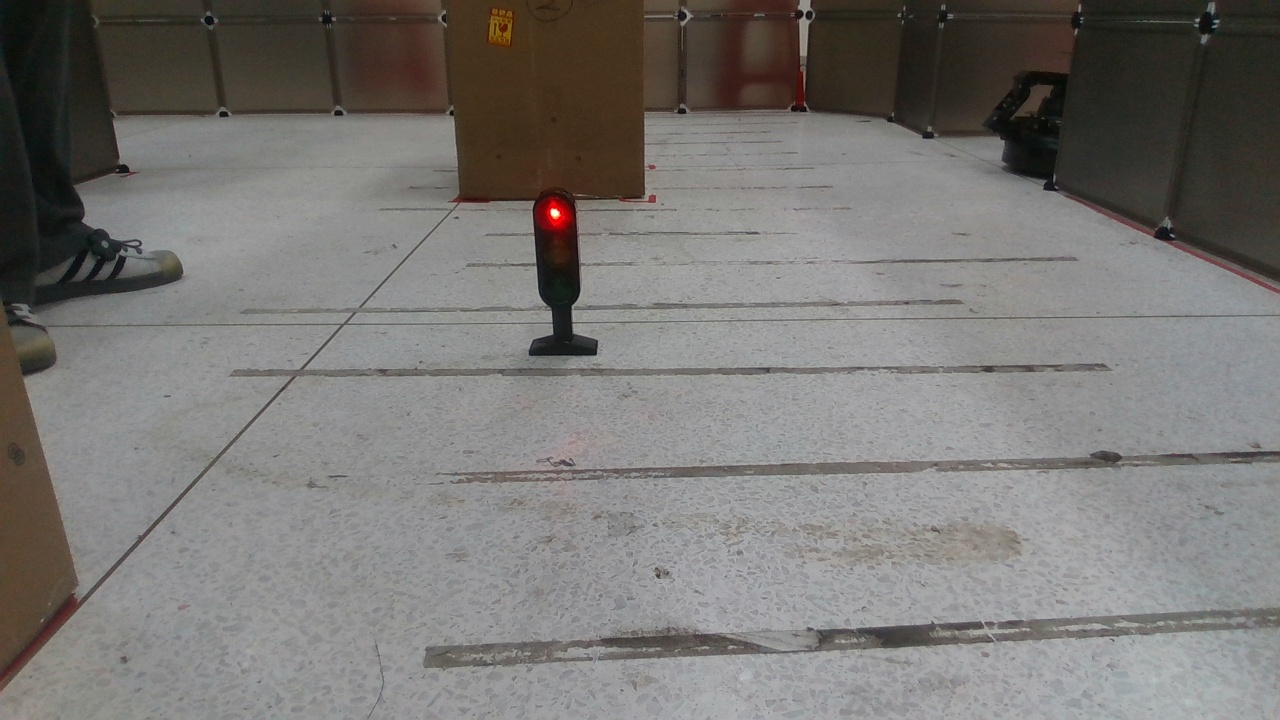Red traffic light: (530, 190, 601, 357)
